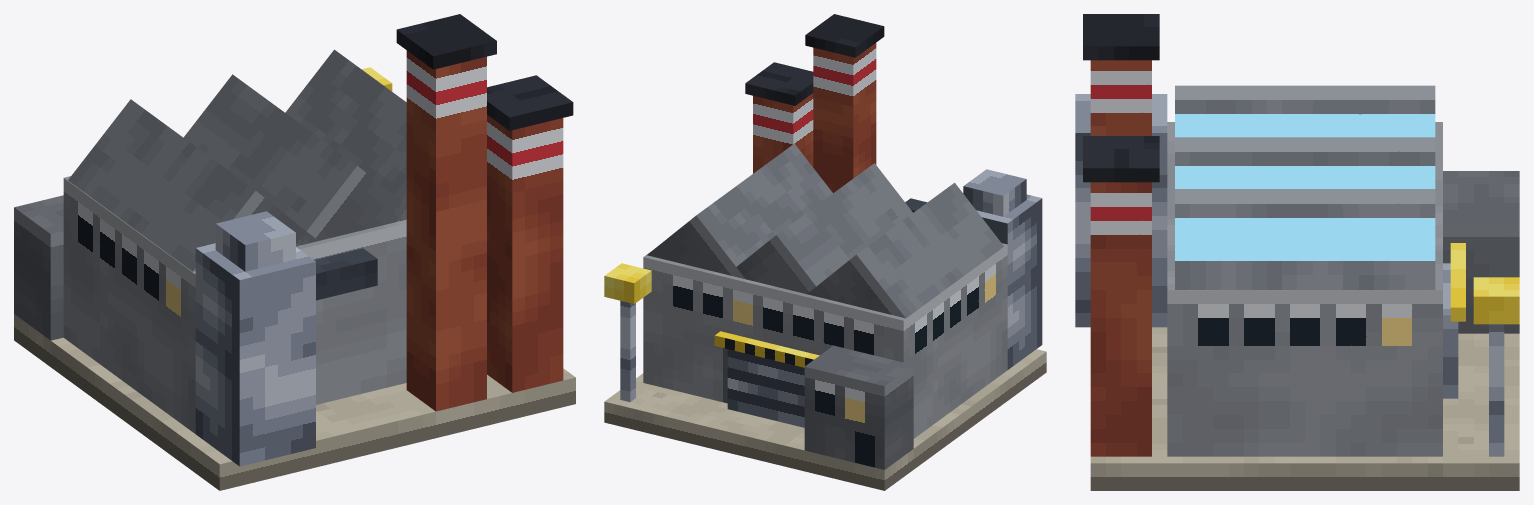
The model's file is factory_neutral.glb.
The picture shows the model from 3 angles, left to right: view 1: azimuth 30°, elevation 25°; view 2: azimuth 150°, elevation 25°; view 3: azimuth 270°, elevation 25°; orthographic projection. The views are drawn at different scales.
Parts seen in each view (by area): view 1: body; view 2: body; view 3: body.
Part boxes in pixels (x1=…): body: x1=14, y1=14, x2=575, y2=490; body: x1=604, y1=14, x2=1046, y2=490; body: x1=1075, y1=14, x2=1519, y2=490.
Size of the model in its own units: 0.875 by 0.9062 by 0.9062.
1 material, 1 textured.
